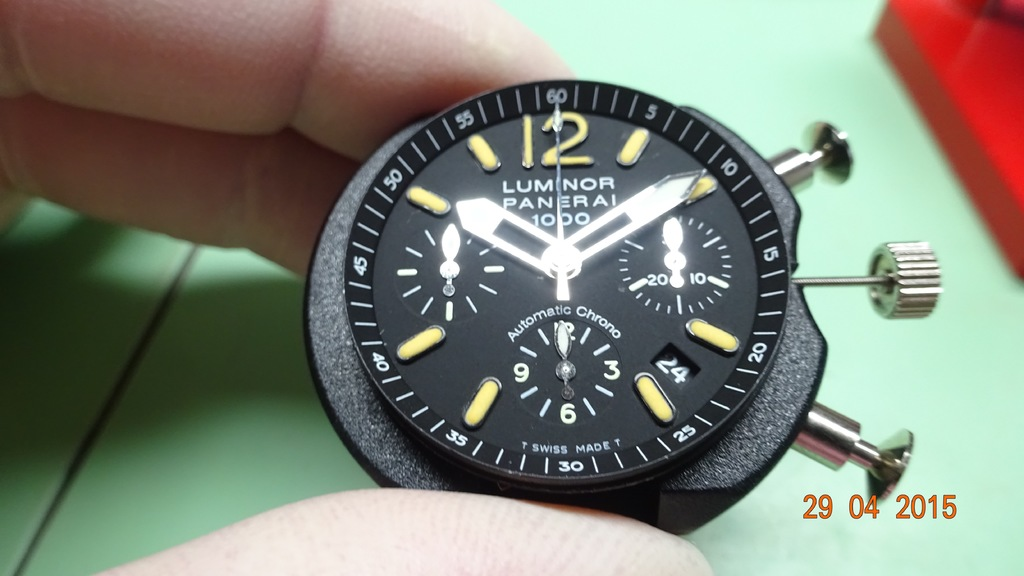watch: (307, 78, 938, 531)
